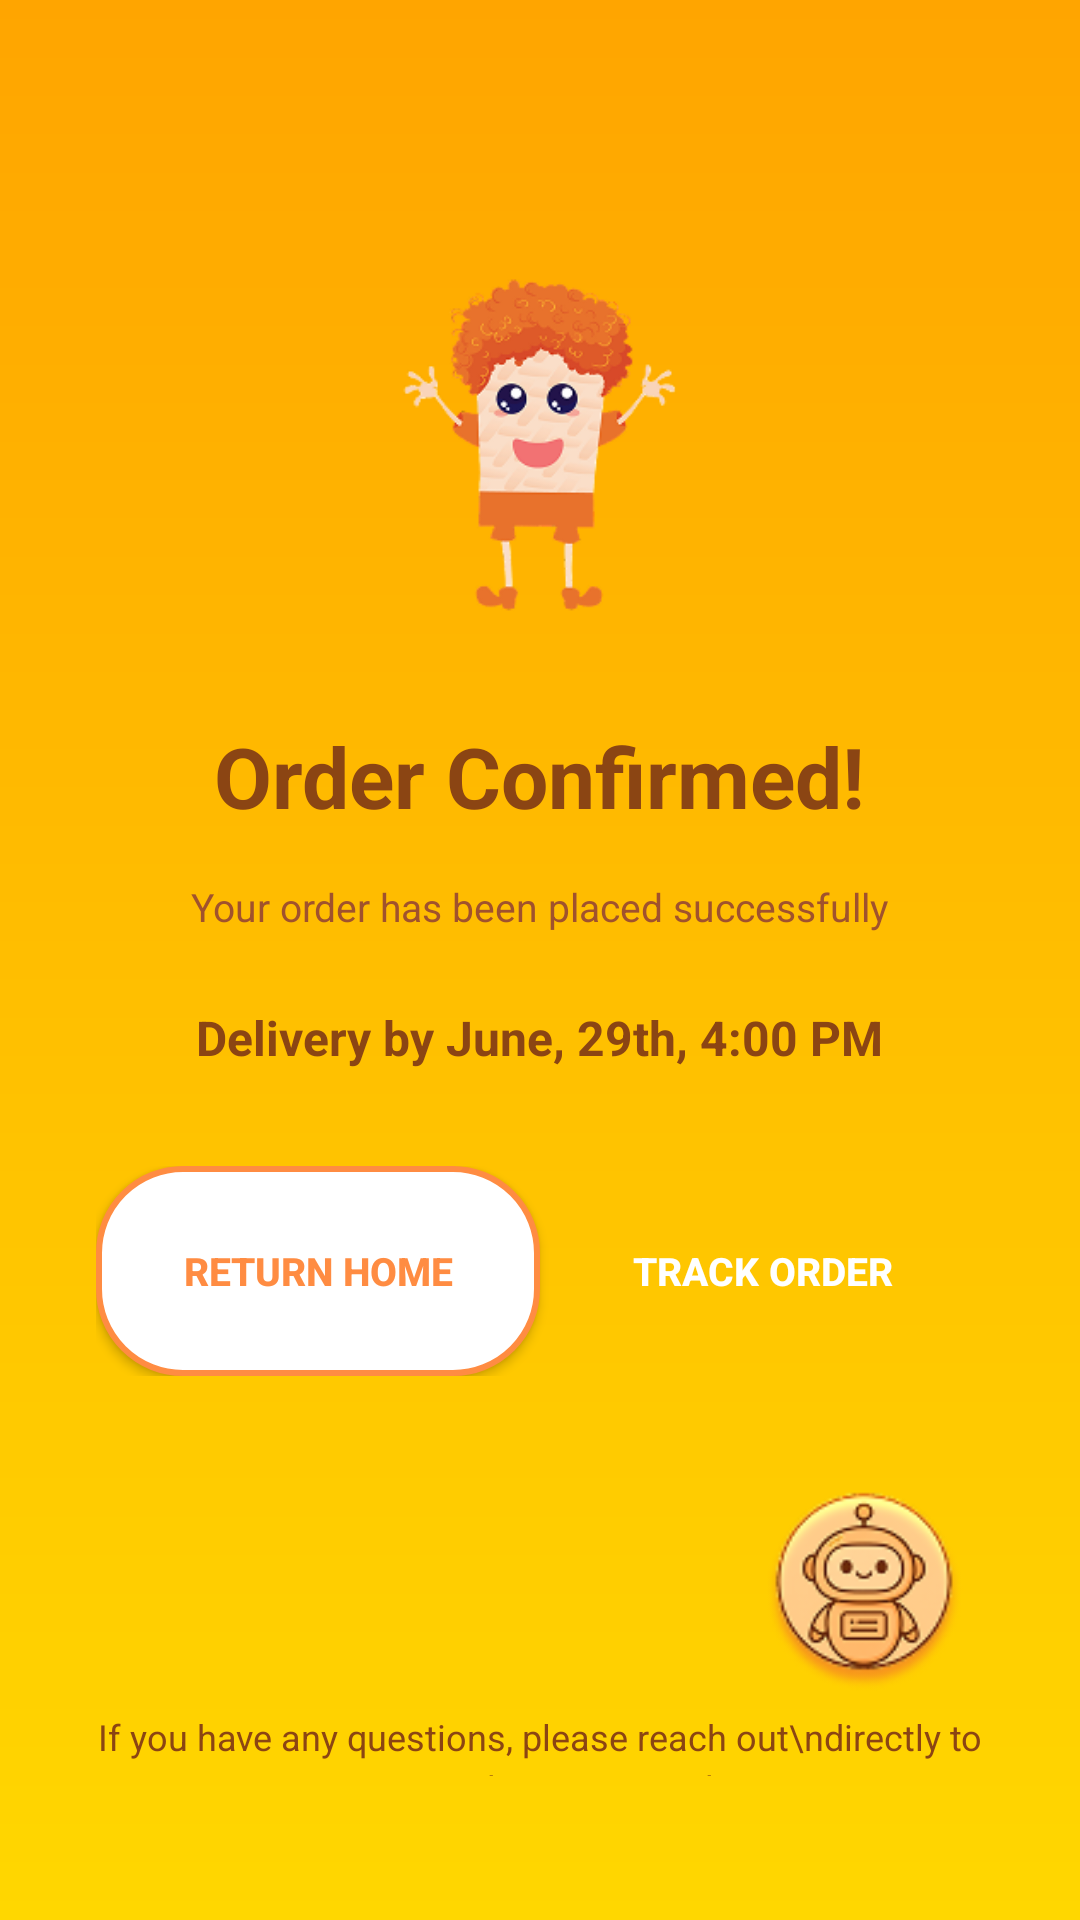

Locate icon controls on the screen. Image size 1080w x 1920h, boxes as (x1, y1, x2, y2).
happy character: (404, 279, 675, 610)
